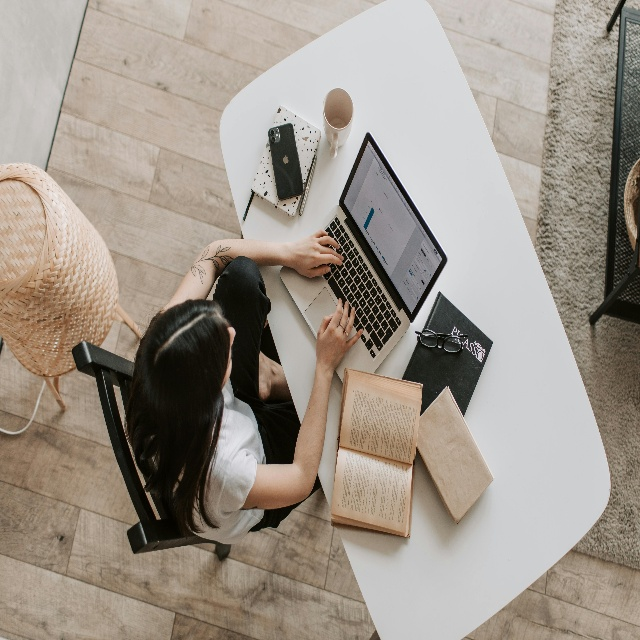Gafas: (414, 328, 468, 353)
Sin_guantes: (315, 297, 363, 372), (290, 228, 344, 278)
